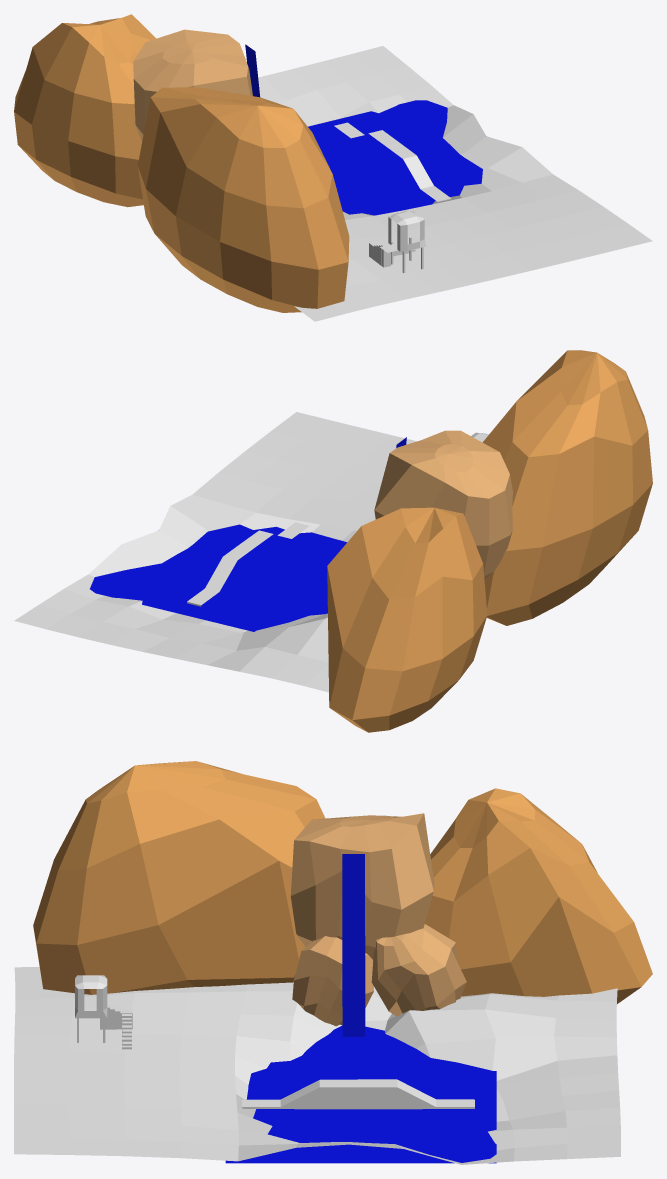
Rendered from Riverbed._Experiment2.glb.
3 renders of one model, top to bottom at view 1: azimuth 30°, elevation 25°; view 2: azimuth 150°, elevation 25°; view 3: azimuth 270°, elevation 25°, orthographic. The views are drawn at different scales.
Visible parts, largest first — view 1: Hills -col, Riverbed -col, Water -col, Foundation -col, Bridge, Tower -col, Stairway -col; view 2: Hills -col, Riverbed -col, Water -col, Foundation -col, Bridge; view 3: Hills -col, Riverbed -col, Foundation -col, Water -col, Bridge, Waterfall, Tower -col, Stairway -col.
Part boxes in pixels (x1,y1,x2,y2): Hills -col: (14, 14, 349, 312); Riverbed -col: (258, 46, 652, 321); Water -col: (308, 100, 482, 215); Foundation -col: (133, 29, 252, 141); Bridge: (334, 122, 451, 201); Tower -col: (388, 211, 425, 273); Stairway -col: (369, 241, 415, 267); Hills -col: (327, 350, 652, 732); Riverbed -col: (14, 412, 416, 692); Water -col: (90, 524, 346, 631); Foundation -col: (374, 430, 512, 579); Bridge: (187, 522, 309, 606); Hills -col: (33, 761, 652, 1003); Riverbed -col: (14, 967, 620, 1164); Foundation -col: (290, 813, 466, 1026); Water -col: (225, 1025, 496, 1163); Bridge: (242, 1079, 474, 1109); Waterfall: (342, 854, 365, 1036); Tower -col: (75, 975, 107, 1042); Stairway -col: (100, 1003, 132, 1049).
Size of what is drawn, in the model's own units: 57.6 by 31.35 by 70.93.
